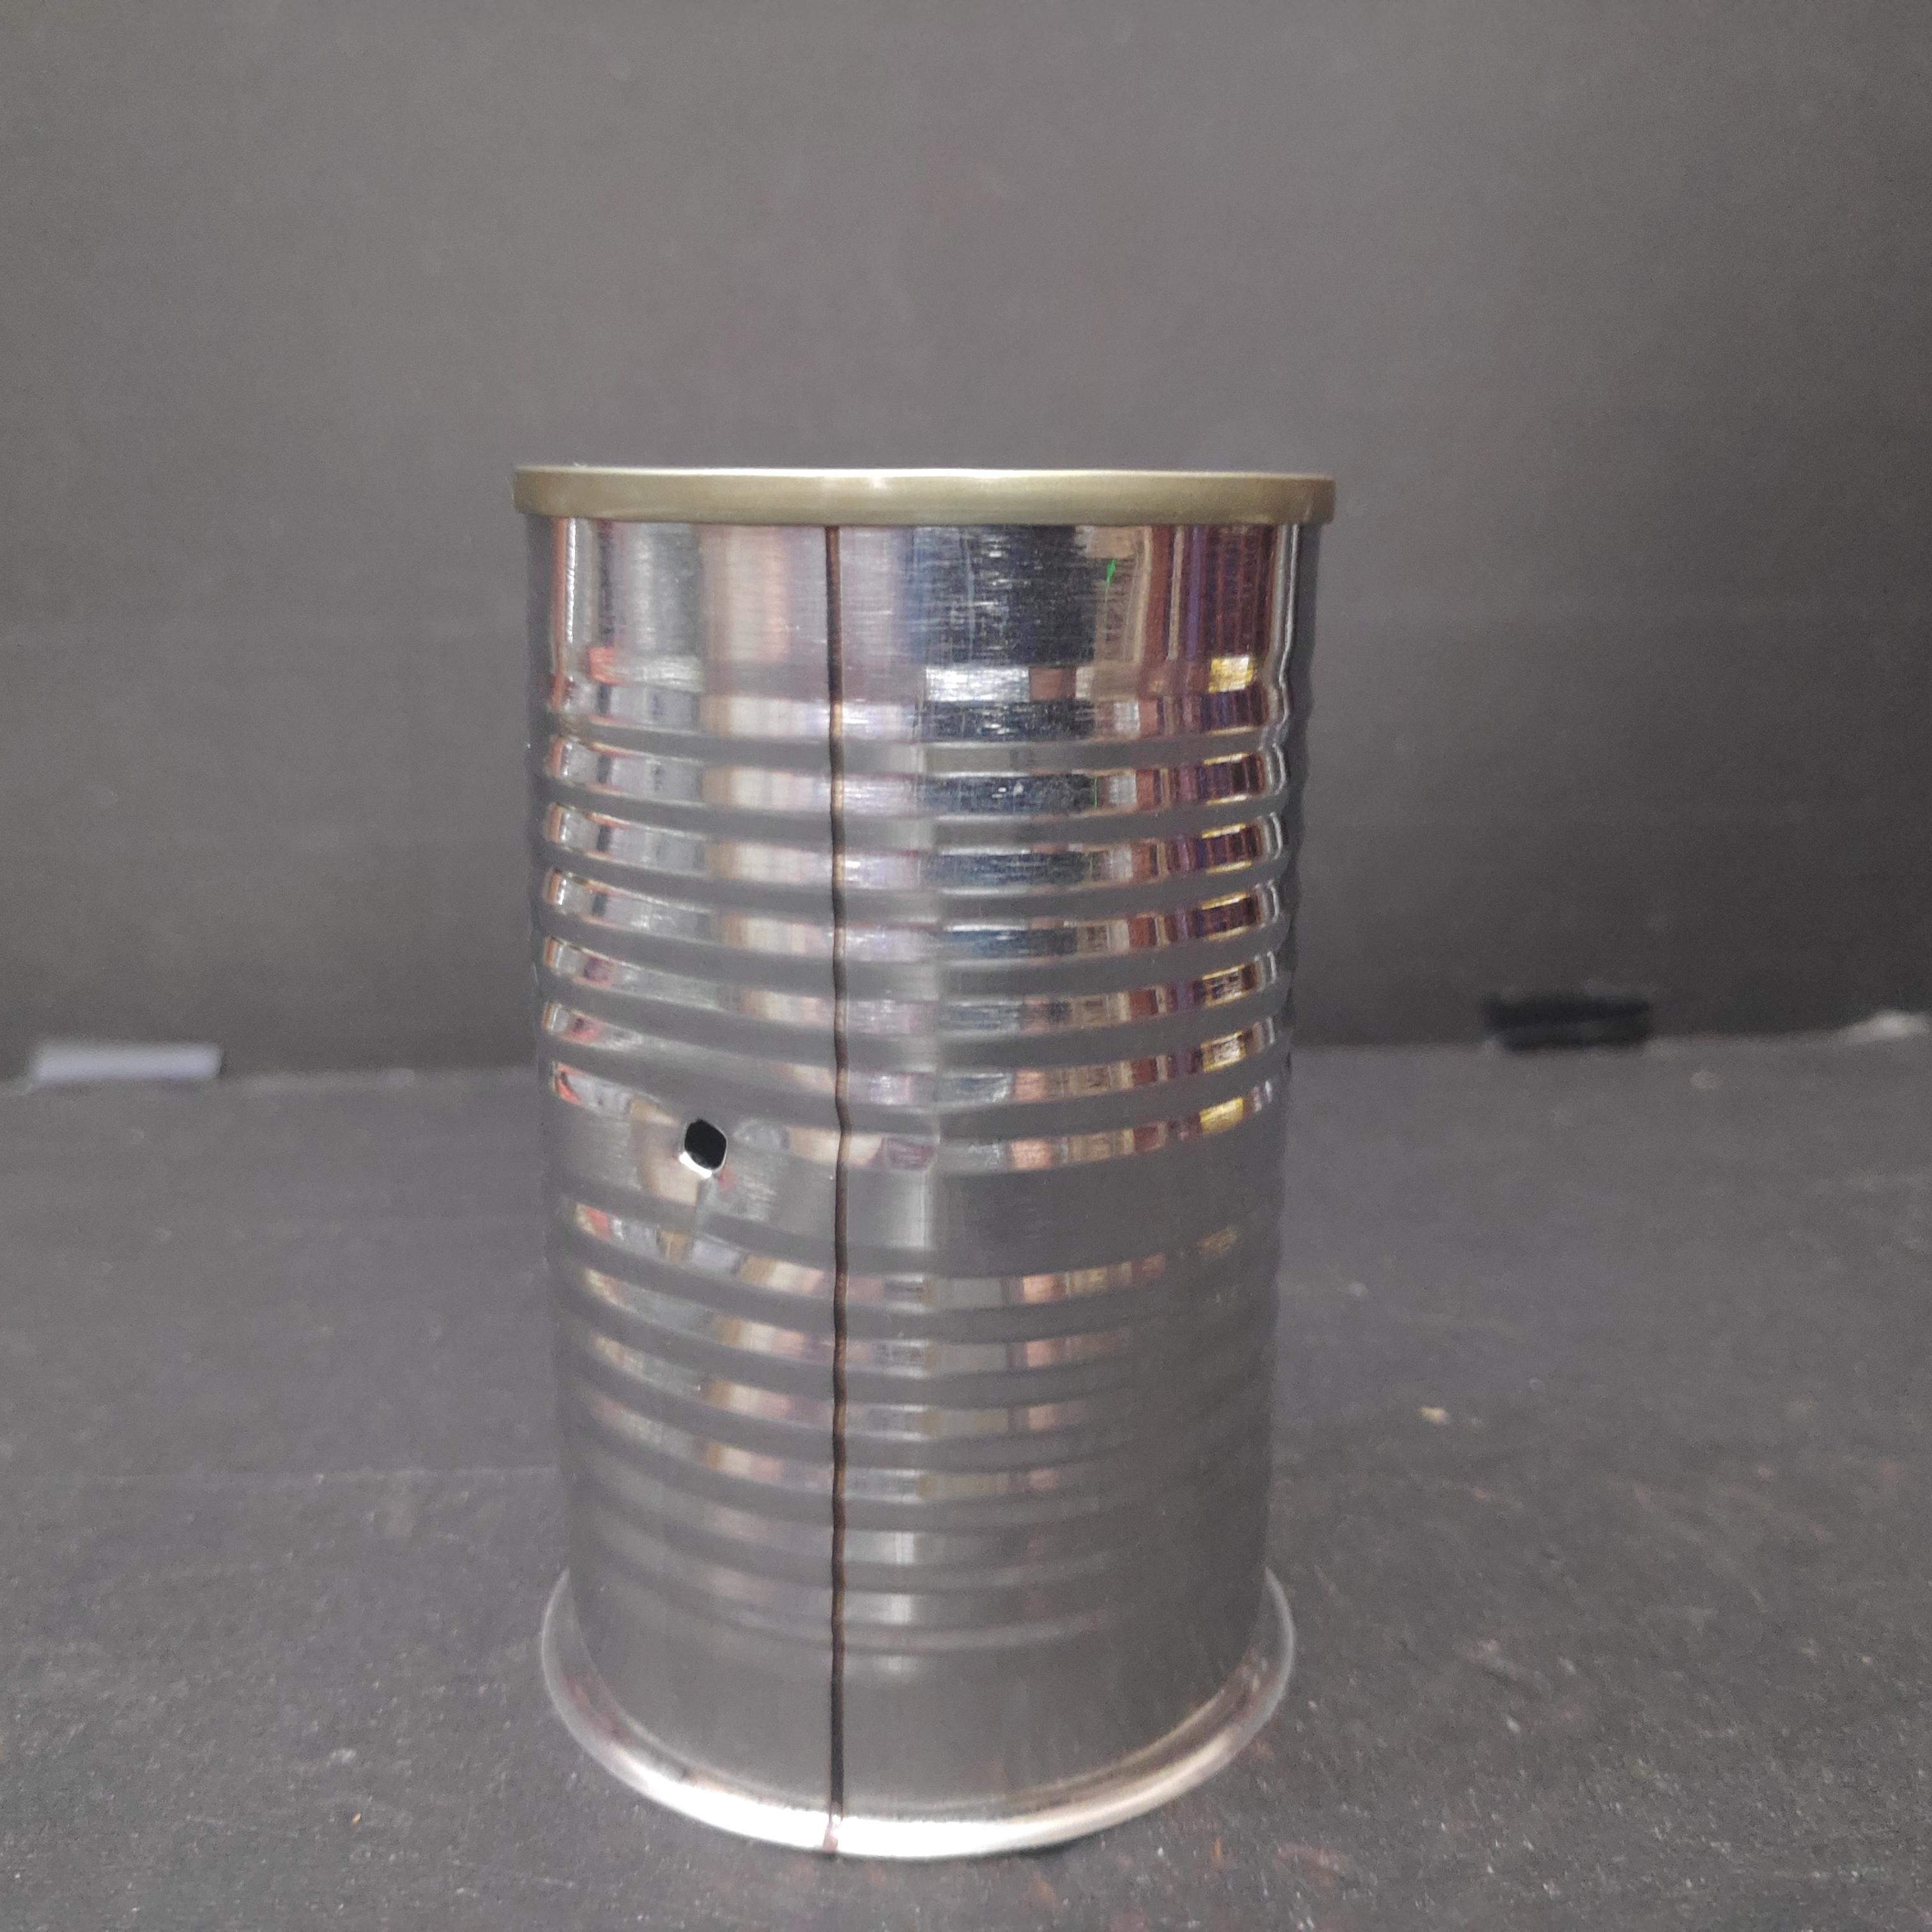Critical Defect: (509, 448, 1350, 1875)
